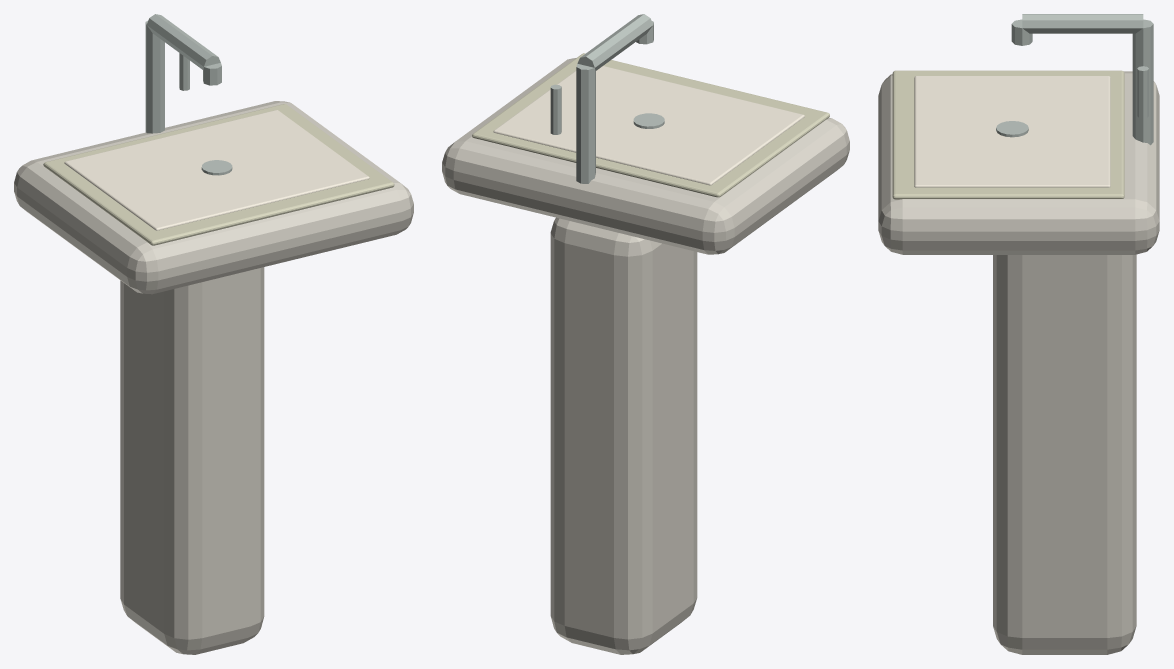
File: washbasin.glb
The picture shows the model from 3 angles, left to right: view 1: azimuth 30°, elevation 25°; view 2: azimuth 150°, elevation 25°; view 3: azimuth 270°, elevation 25°; orthographic projection. The views are drawn at different scales.
Visible parts, largest first — view 1: washbasin__ceramic, washbasin__white, washbasin__stone, washbasin__steel; view 2: washbasin__ceramic, washbasin__white, washbasin__stone, washbasin__steel; view 3: washbasin__ceramic, washbasin__white, washbasin__stone, washbasin__steel.
Boxes of the visible parts, bbox=[...] form: washbasin__ceramic: bbox=[14, 101, 413, 654]; washbasin__white: bbox=[64, 110, 369, 230]; washbasin__stone: bbox=[43, 104, 394, 245]; washbasin__steel: bbox=[145, 14, 232, 175]; washbasin__ceramic: bbox=[442, 58, 849, 654]; washbasin__white: bbox=[493, 66, 804, 185]; washbasin__stone: bbox=[472, 53, 829, 197]; washbasin__steel: bbox=[550, 14, 664, 183]; washbasin__ceramic: bbox=[878, 71, 1159, 654]; washbasin__white: bbox=[914, 76, 1110, 187]; washbasin__stone: bbox=[892, 70, 1124, 199]; washbasin__steel: bbox=[996, 14, 1153, 145].
Bounding box in the file's own units: 0.53 × 1.06 × 0.43.
